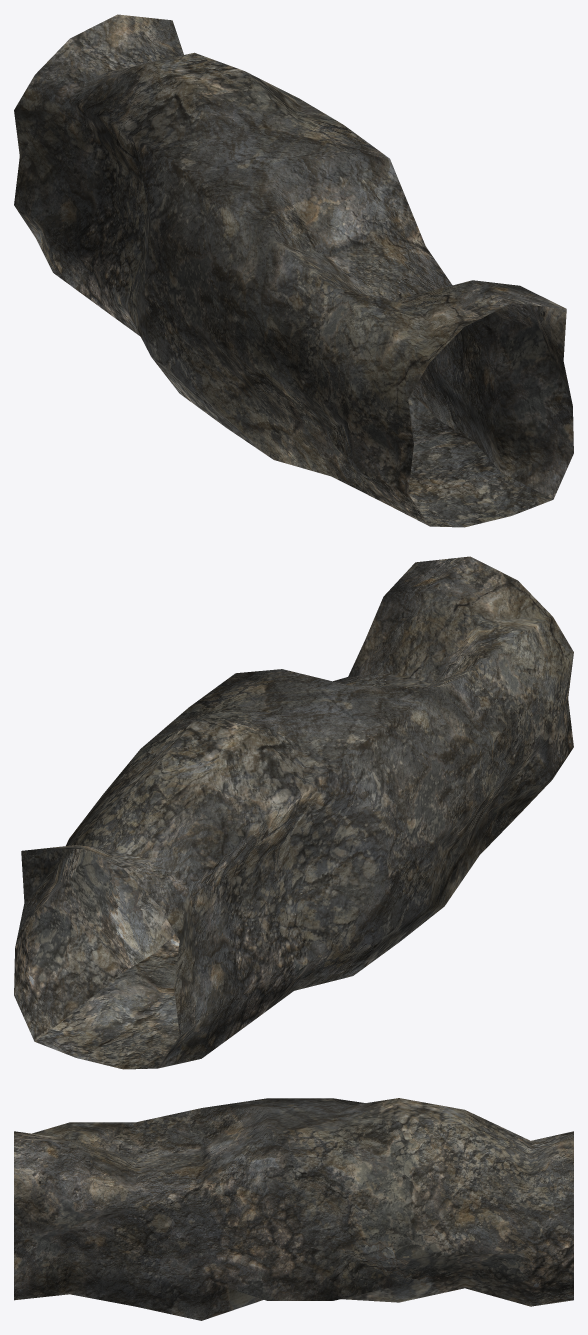
The model's file is cave_piece_07.glb.
3 views of the same model, one above another, from view 1: azimuth 30°, elevation 25°; view 2: azimuth 150°, elevation 25°; view 3: azimuth 270°, elevation 25° (orthographic). The views are drawn at different scales.
Parts seen in each view (by area): view 1: mine_07_mine_0; view 2: mine_07_mine_0; view 3: mine_07_mine_0.
Boxes of the visible parts, <box> form: mine_07_mine_0: <box>14,14,573,527</box>; mine_07_mine_0: <box>14,556,573,1069</box>; mine_07_mine_0: <box>14,1098,573,1320</box>.
Size of the model in its own units: 5.23 by 5.33 by 14.57.
1 material, 1 textured.
